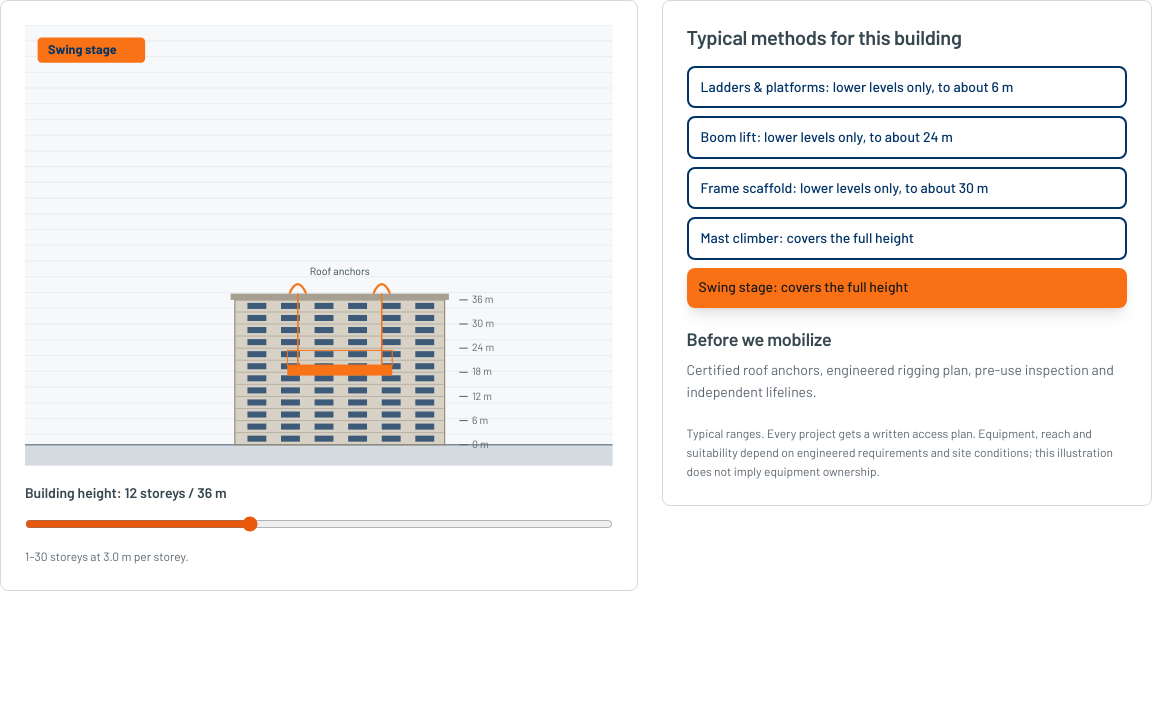
it: Capabilities interactions › resets an unavailable access method when the height goes below its minimum
This screenshot has width=1152, height=720.
Set the slider labelled "Building height: 12 storeys / 36 m" to "3" at (72, 524), box [25,516,613,532]
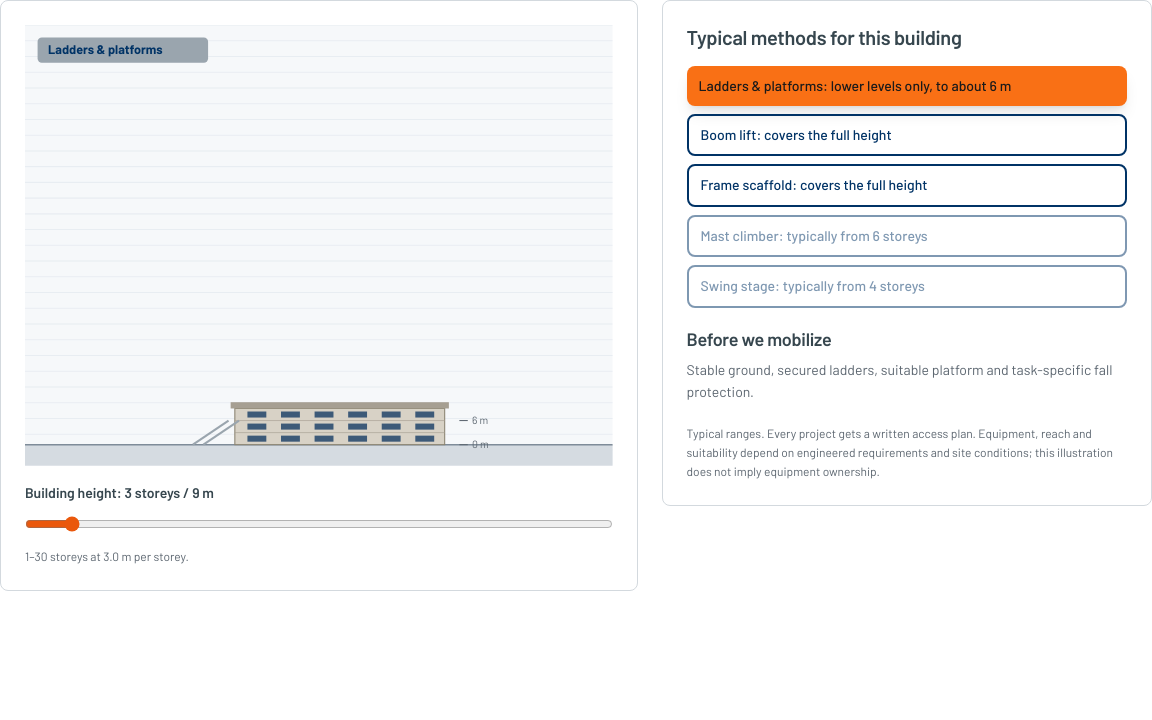
expect the button "Swing stage: typically from 4 storeys" is disabled: met, box [687,265,1127,308]
